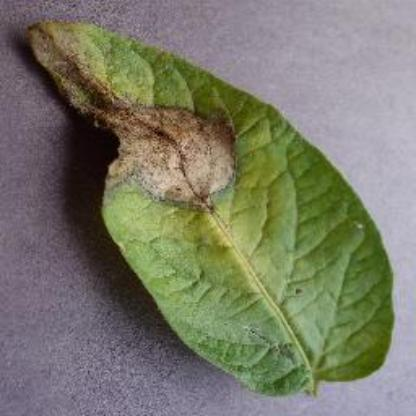Late-Blight: (22, 9, 394, 399)
